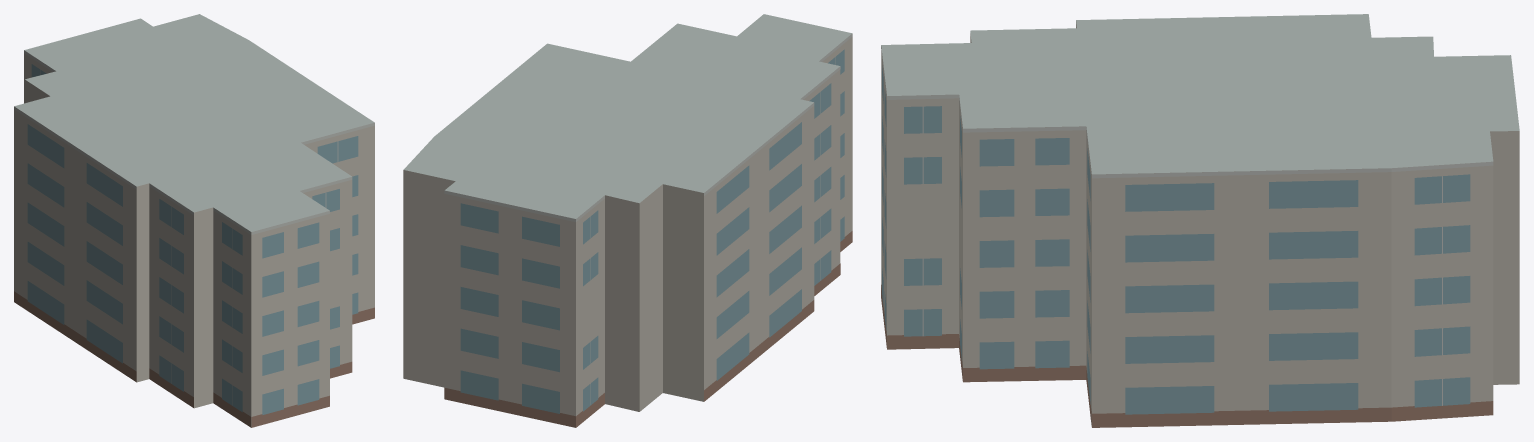
File: survey-upis-32628224.glb
3 views of the same model, side by side, from view 1: azimuth 30°, elevation 25°; view 2: azimuth 150°, elevation 25°; view 3: azimuth 270°, elevation 25° (orthographic). The views are drawn at different scales.
Visible parts, largest first — view 1: survey-upis-32628224.tmp; view 2: survey-upis-32628224.tmp; view 3: survey-upis-32628224.tmp.
Part boxes in pixels (<box>): survey-upis-32628224.tmp: <box>14,14,374,427</box>; survey-upis-32628224.tmp: <box>403,14,852,427</box>; survey-upis-32628224.tmp: <box>881,14,1519,427</box>.
Size of the model in its own units: 21.59 by 15.9 by 36.31.
